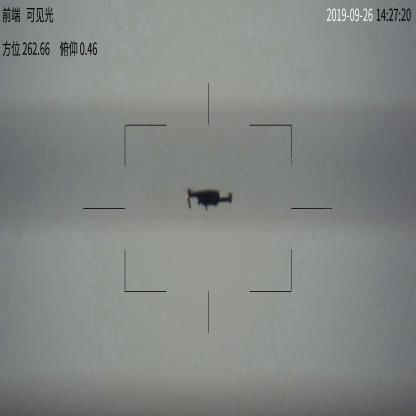uav: (180, 185, 242, 211)
